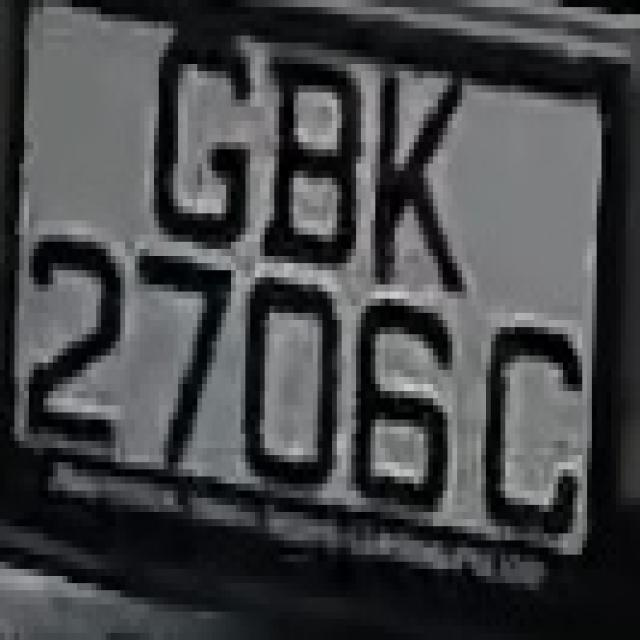0: (231, 256, 356, 519)
2: (39, 199, 140, 484)
6: (352, 256, 452, 512)
7: (125, 242, 236, 498)
B: (270, 14, 370, 292)
C: (476, 298, 597, 562)
G: (135, 21, 255, 256)
K: (370, 50, 462, 320)
